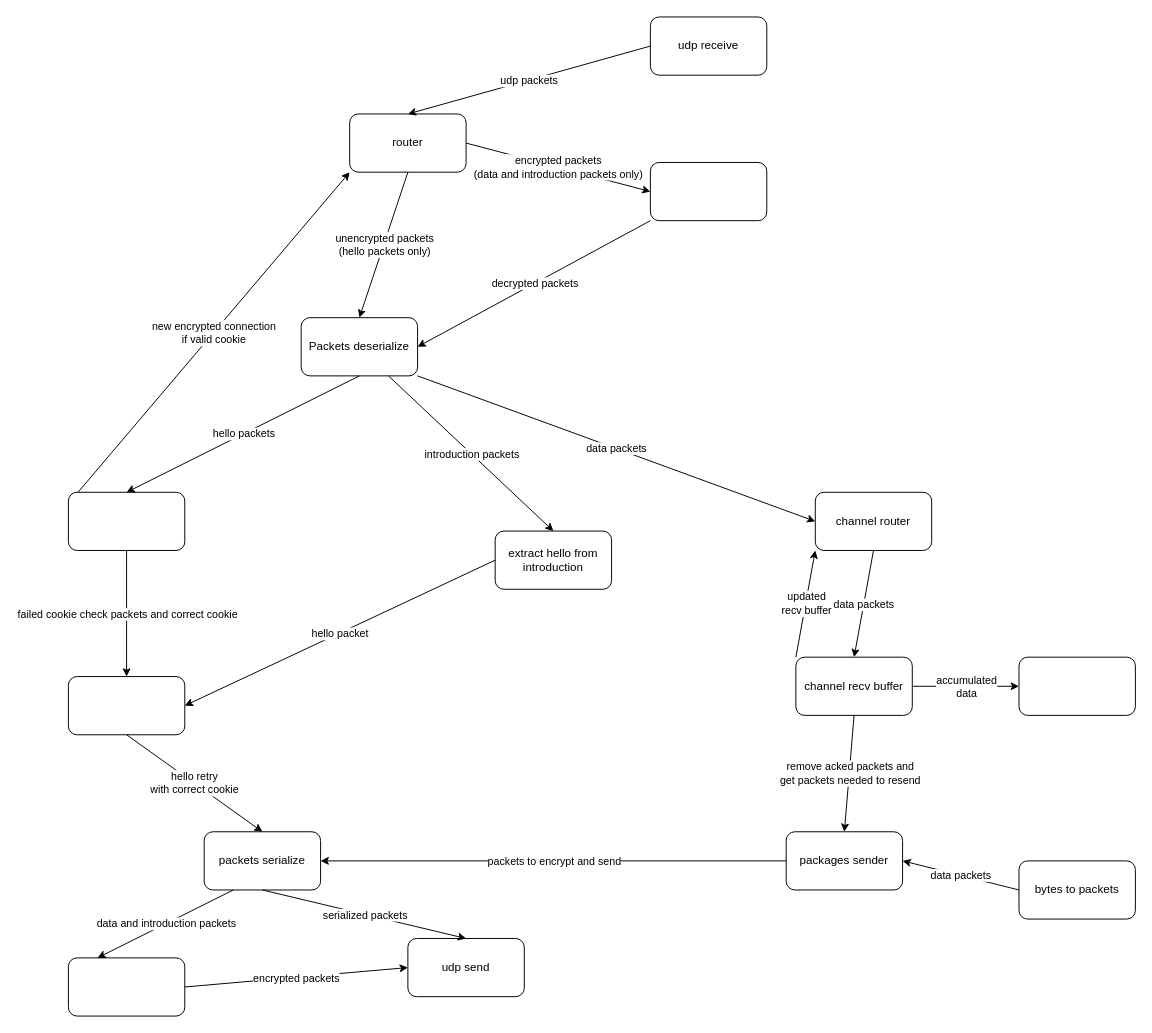
This 1152x1033 diagram has some shape labels left out. Here are the shapes that lost their labels. From the top down, the centre of each, then its label:
At [708,191]: "decrypt".
At [126,520]: "cookie verify".
At [126,705]: "signature verify".
At [1076,685]: "channel recv consumable".
At [126,986]: "encrypt".
